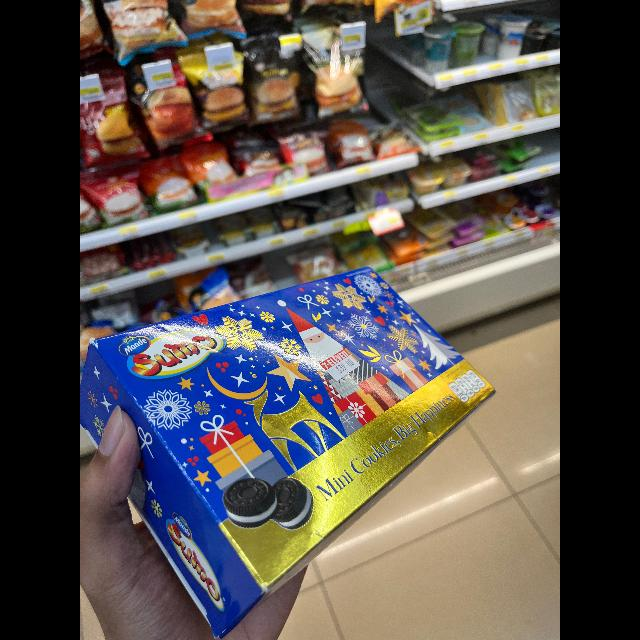cardboard_box: (80, 242, 498, 640)
